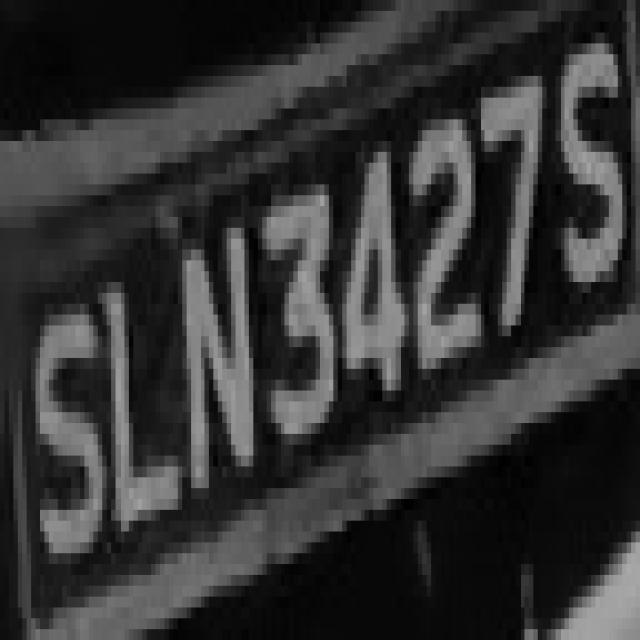2: (400, 87, 489, 434)
3: (249, 152, 338, 466)
4: (329, 130, 404, 456)
7: (462, 54, 542, 380)
L: (84, 250, 182, 542)
N: (178, 184, 266, 510)
S: (13, 282, 107, 575), (547, 22, 631, 336)
